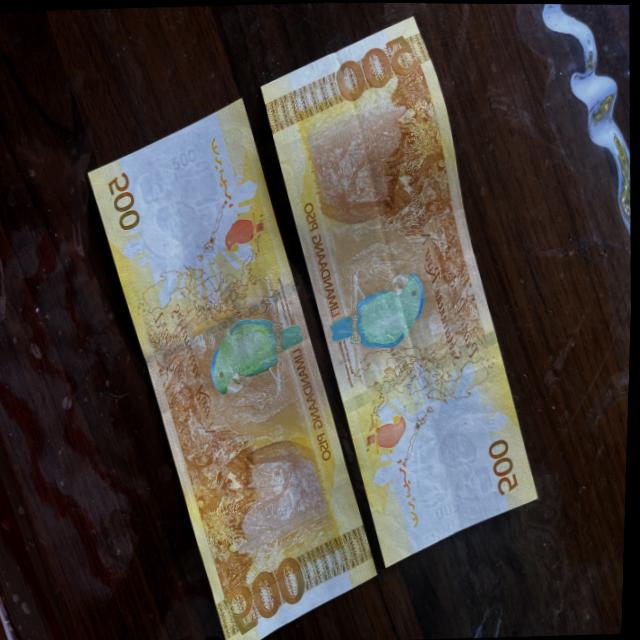500_big_parrot: (327, 266, 430, 358), (208, 310, 309, 395)
500_parrot_watermark: (362, 404, 411, 458), (224, 210, 266, 254)
value_watermark: (434, 491, 463, 524), (171, 141, 197, 174)
watermark: (135, 152, 220, 254), (410, 417, 493, 517)
